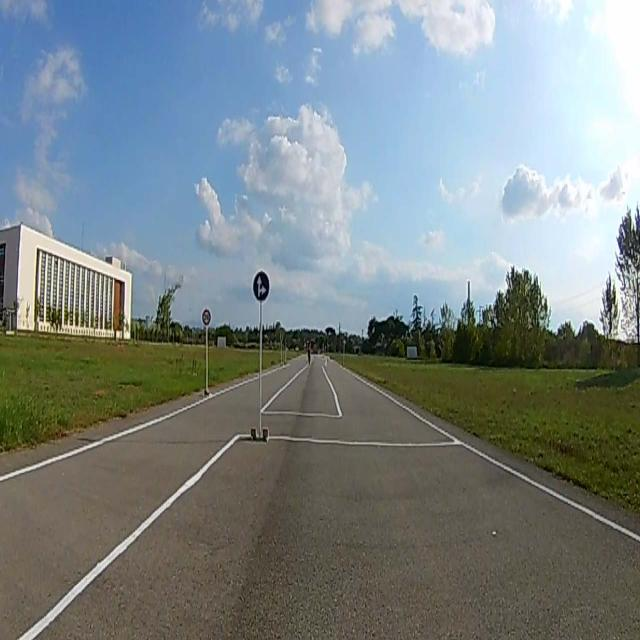ilerisag: (252, 270, 270, 300)
